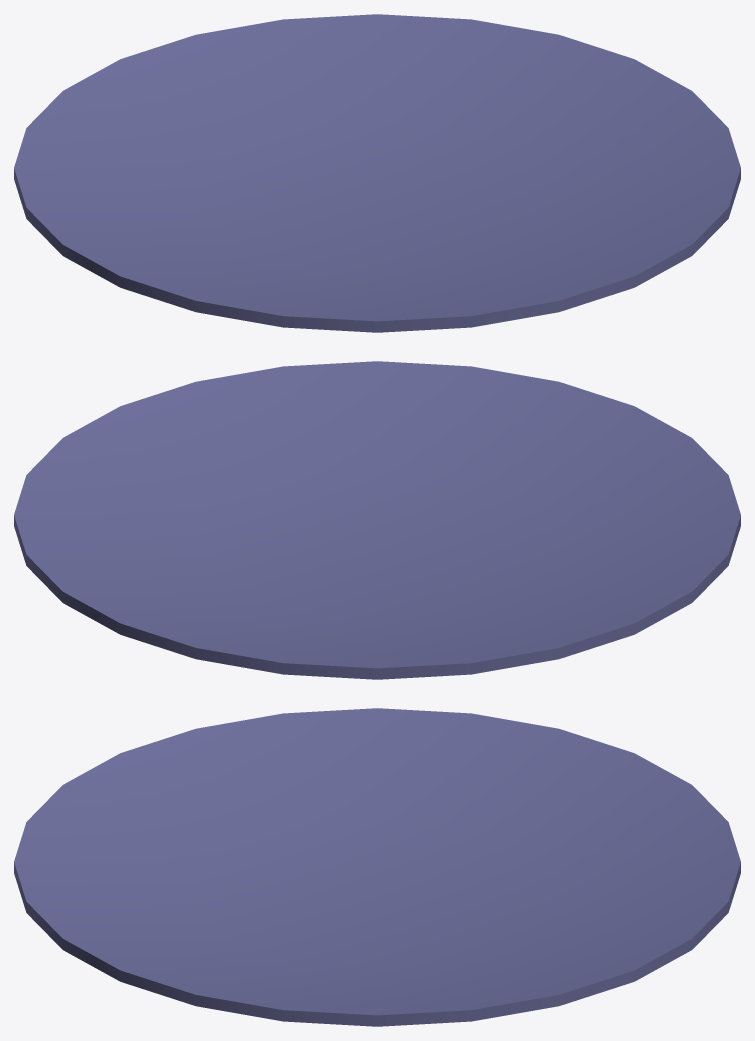
Rendered from potteryPlateA.FBX.
3 renders of one model, top to bottom at view 1: azimuth 30°, elevation 25°; view 2: azimuth 150°, elevation 25°; view 3: azimuth 270°, elevation 25°, orthographic.
Parts seen in each view (by area): view 1: potteryPlateA; view 2: potteryPlateA; view 3: potteryPlateA.
Part boxes in pixels (x1=…): potteryPlateA: x1=14, y1=14, x2=740, y2=332; potteryPlateA: x1=14, y1=361, x2=740, y2=679; potteryPlateA: x1=14, y1=708, x2=740, y2=1026.
Size of the model in its own units: 0.29 by 0.0184 by 0.29.
